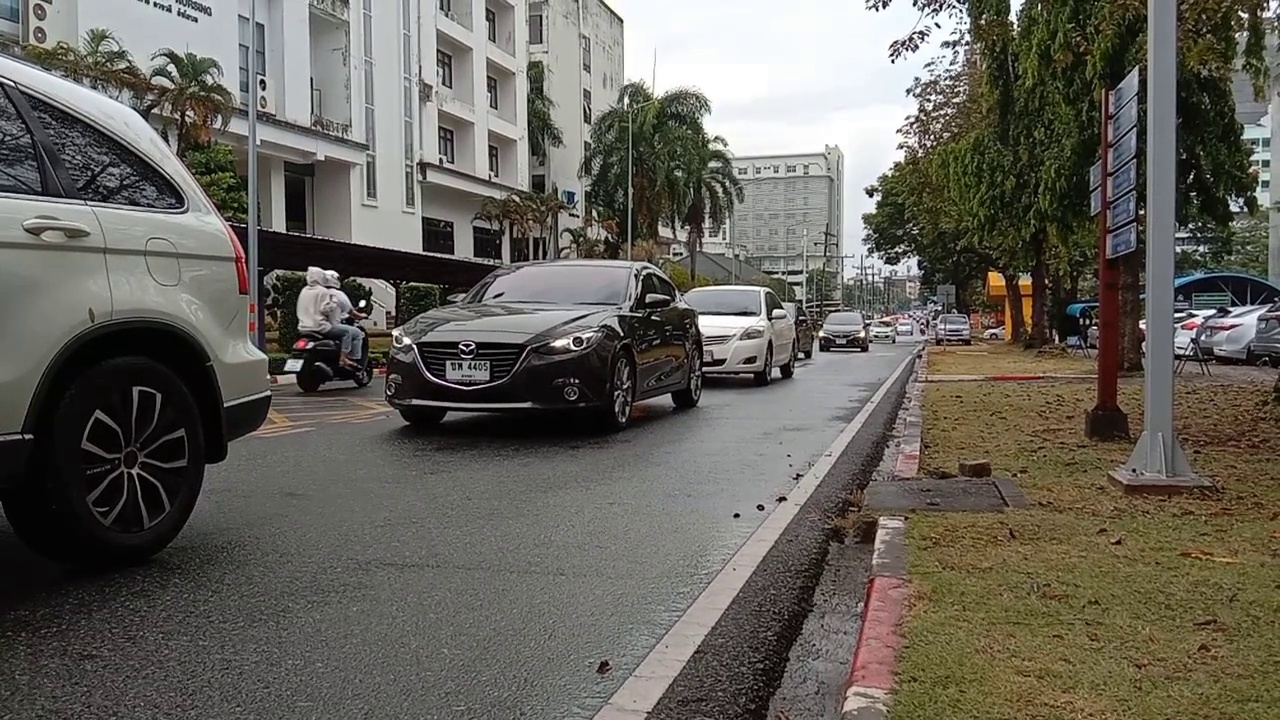License Plate: (445, 359, 490, 381)
